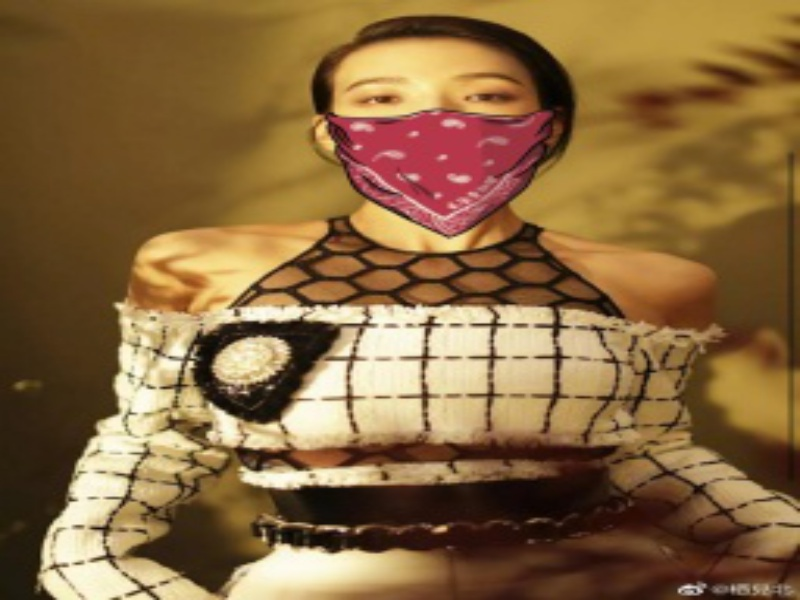ManaoArotava: (297, 19, 577, 238)
